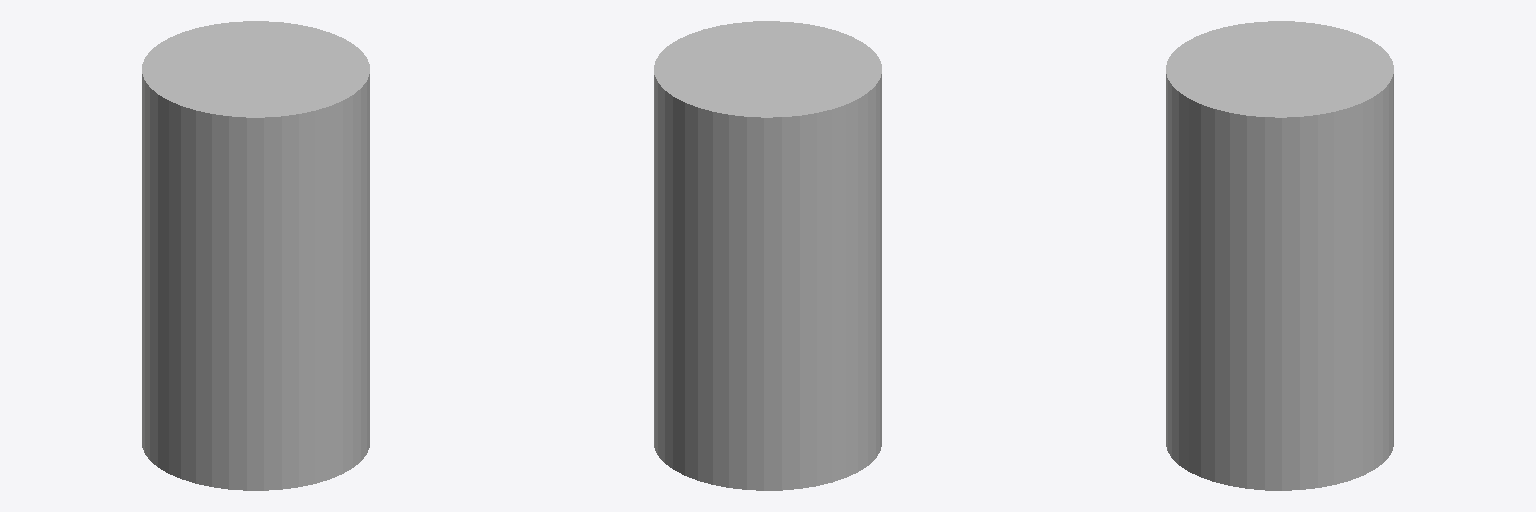
Rendered from canned_food_14.obj.
3 renders of one model, left to right at view 1: azimuth 30°, elevation 25°; view 2: azimuth 150°, elevation 25°; view 3: azimuth 270°, elevation 25°, orthographic.
Parts seen in each view (by area): view 1: canned_food_17:pCylinder6; view 2: canned_food_17:pCylinder6; view 3: canned_food_17:pCylinder6.
Part boxes in pixels (x1,y1,x2,y2): canned_food_17:pCylinder6: (142, 21, 369, 490); canned_food_17:pCylinder6: (654, 21, 881, 490); canned_food_17:pCylinder6: (1166, 21, 1393, 490).
Size of the model in its own units: 0.4425 by 0.7973 by 0.4425.